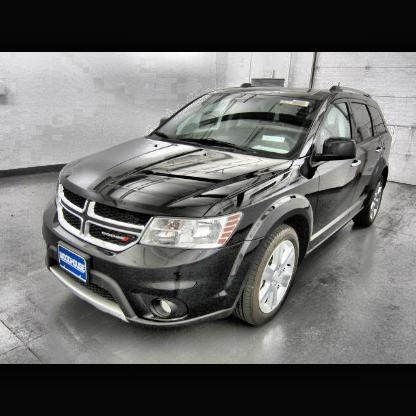Dodge Journey SUV 2012: (44, 89, 394, 330)
